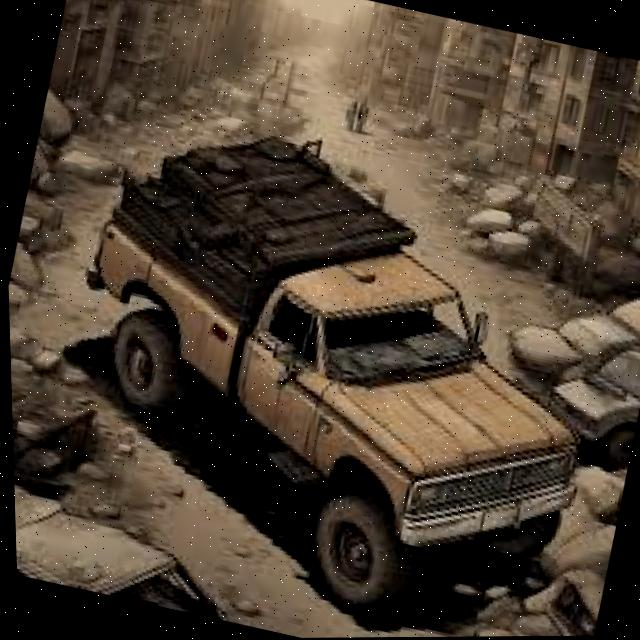truck: (18, 79, 638, 640), (11, 454, 325, 640), (532, 332, 640, 471), (533, 548, 607, 637)
